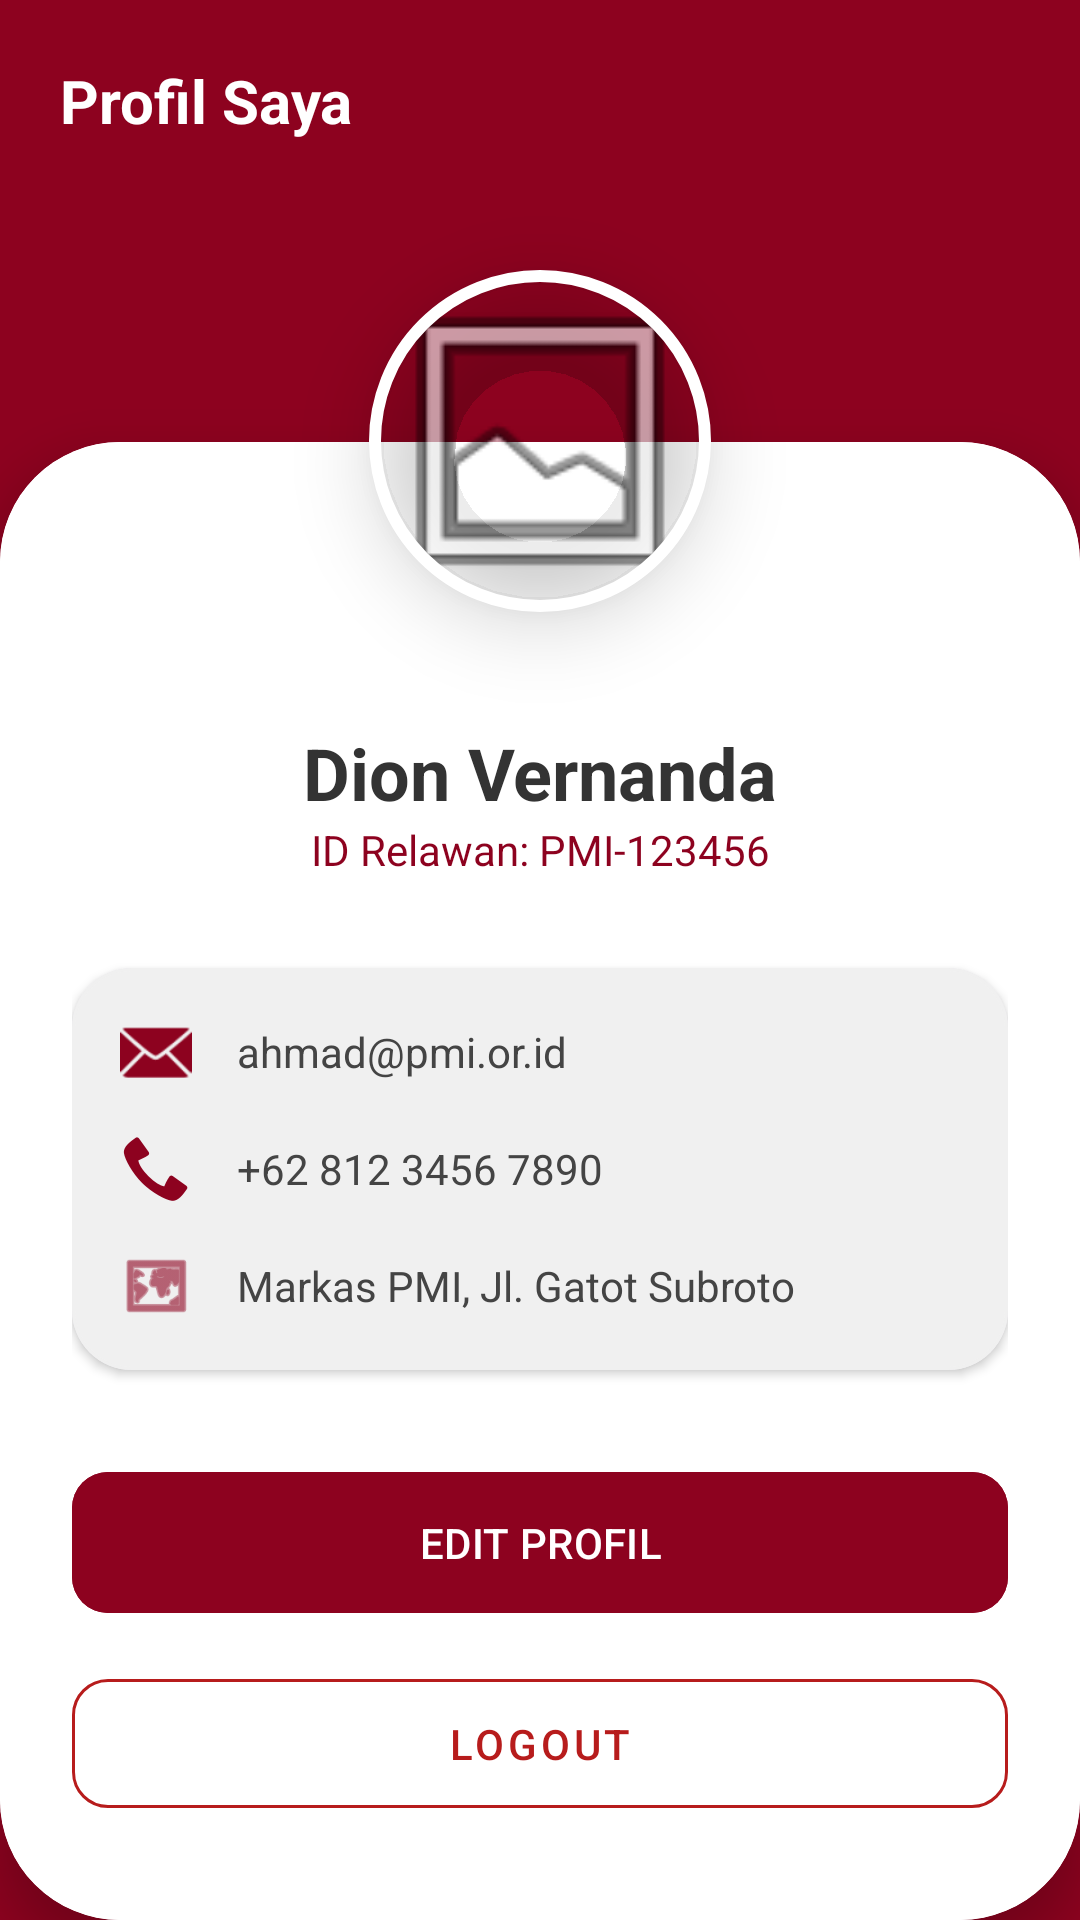

Screen size 1080 x 1920. Icon name, then its center in pixels as [x,y]:
email: [156,1052]
gallery: [540,441]
mapmode: [156,1286]
phone call: [156,1169]
